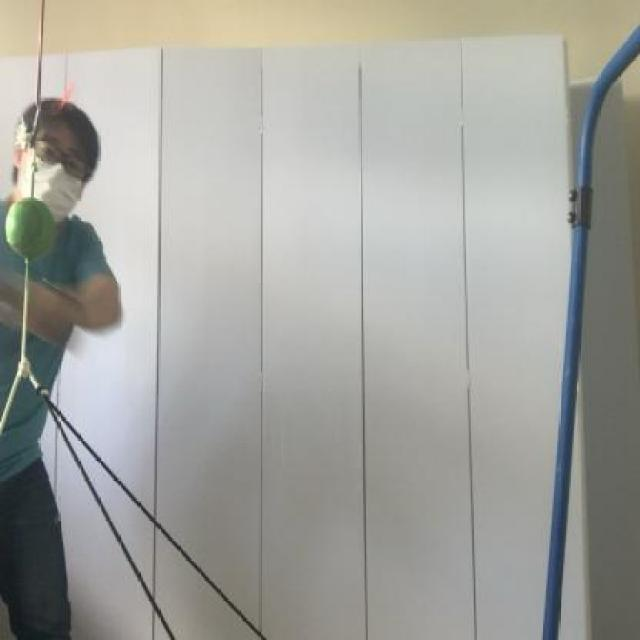baseball: (3, 185, 66, 282)
